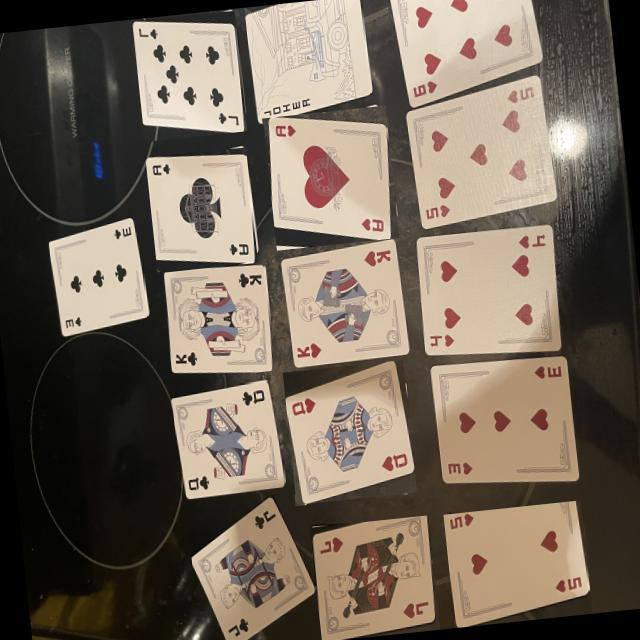2 of hearts: (444, 499, 589, 627)
3 of hearts: (416, 223, 561, 354), (430, 355, 579, 482)
4 of clubs: (49, 216, 147, 335)
7 of clubs: (134, 19, 245, 131)
Ace of clubs: (147, 152, 256, 261)
Ace of hearts: (270, 115, 392, 238)
Jack of clubs: (191, 495, 315, 640)
Jack of hearts: (314, 514, 436, 640)
Joker: (245, 0, 370, 122)
King of clubs: (164, 263, 273, 371)
King of hearts: (281, 239, 410, 367)
Queen of clubs: (172, 380, 285, 498)
Queen of hearts: (285, 360, 414, 502)
